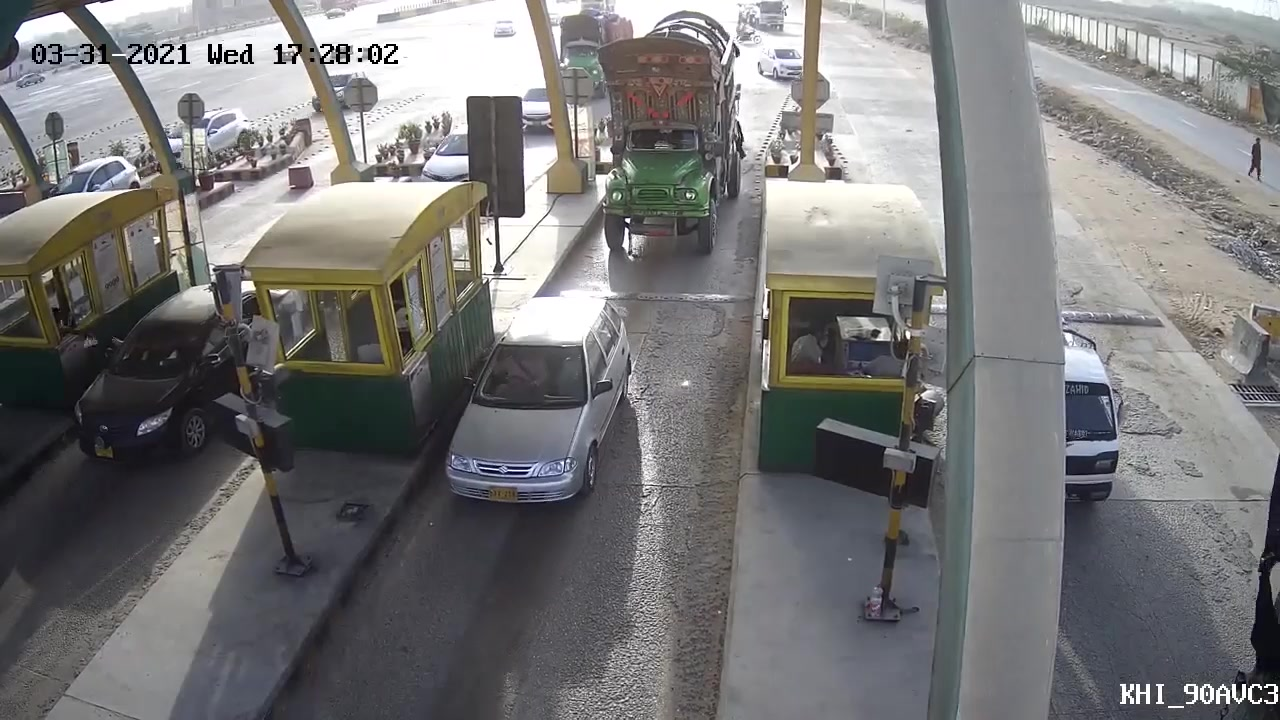F1: (438, 291, 635, 520)
F5: (591, 10, 750, 257)
